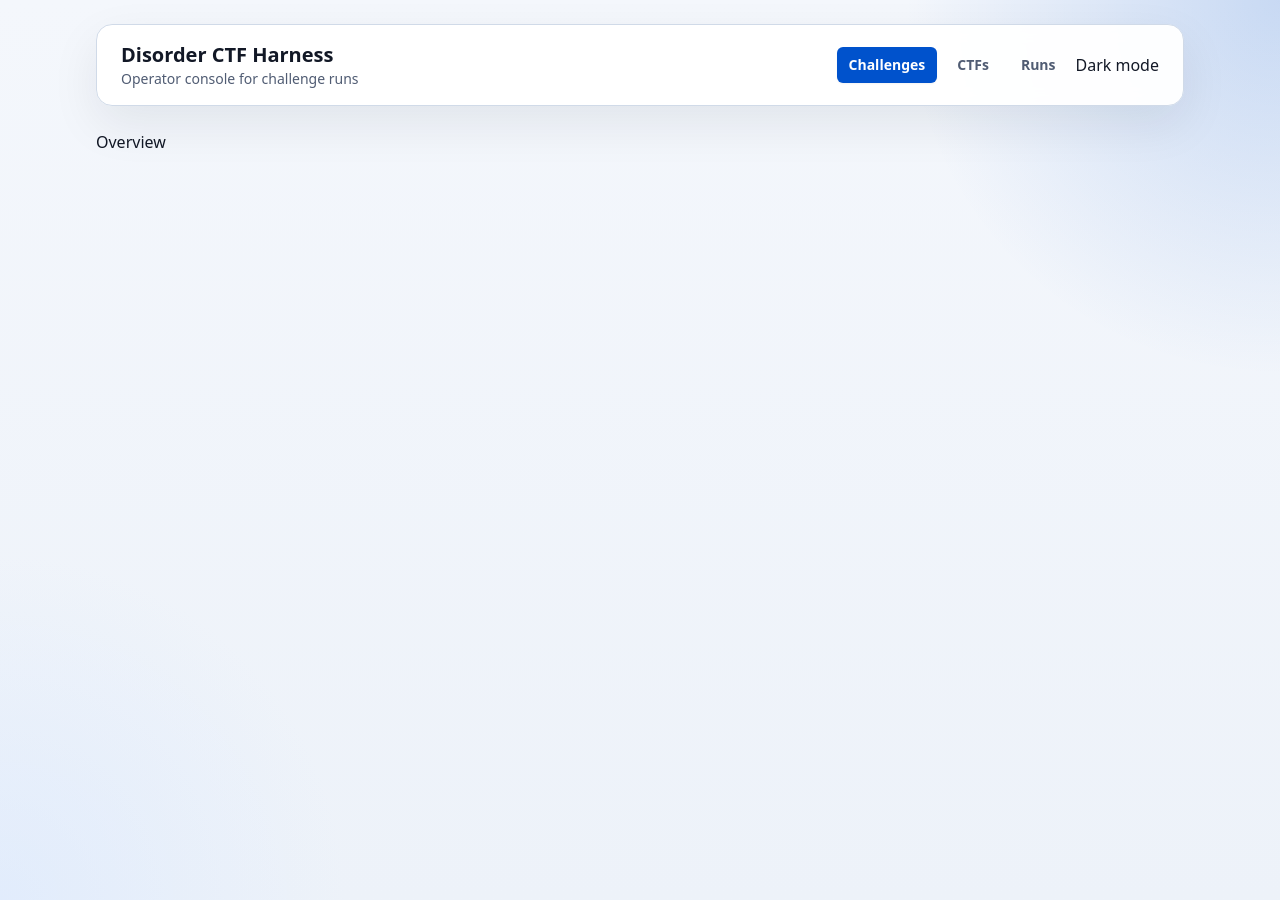
Test: AppLayout › toggles dark mode and persists the preference
Click the button with aria-label "switch to dark mode" at [1117, 65], box [1076,53,1159,77]
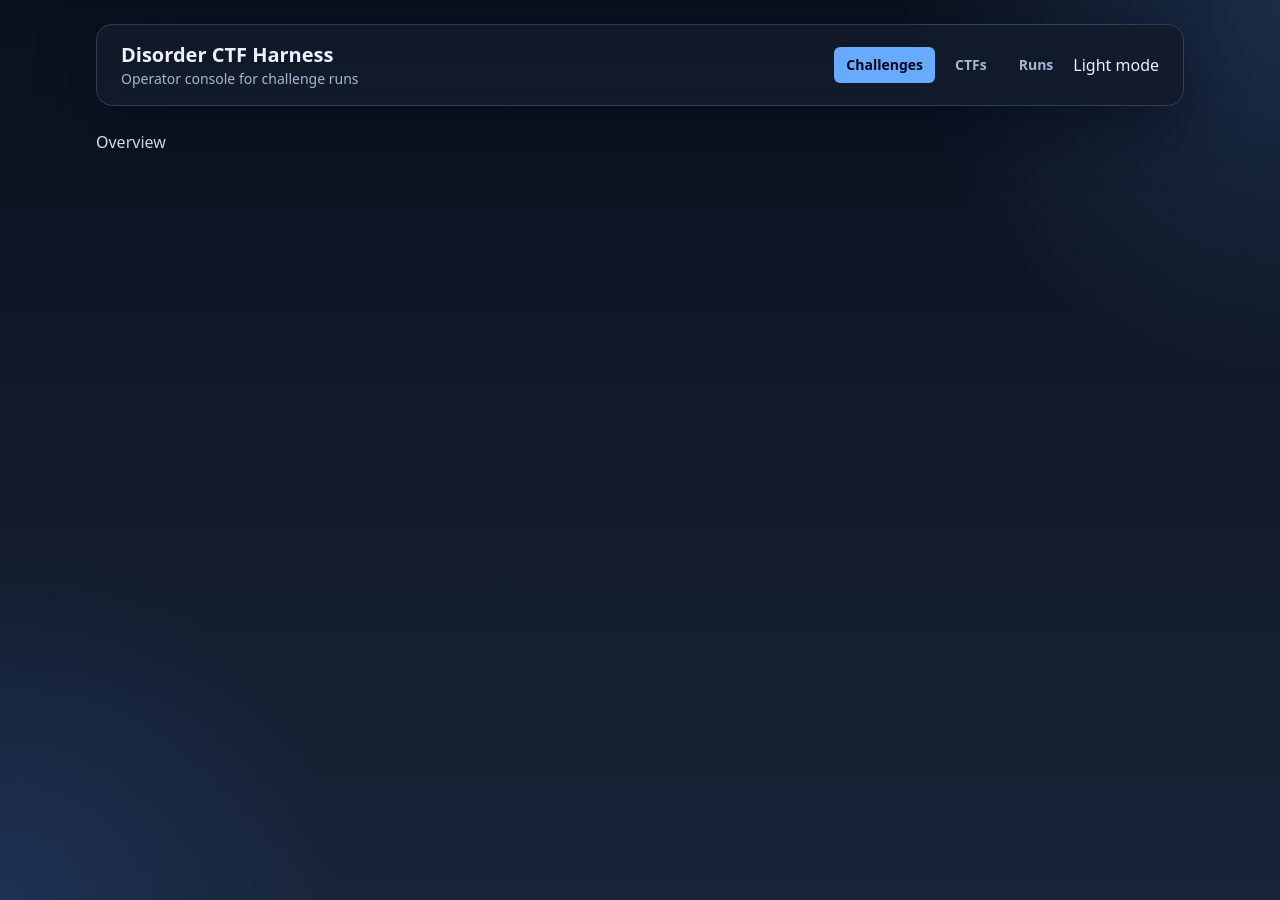
Check: the button with aria-label "switch to light mode" is shown, box [1073,53,1159,77]
